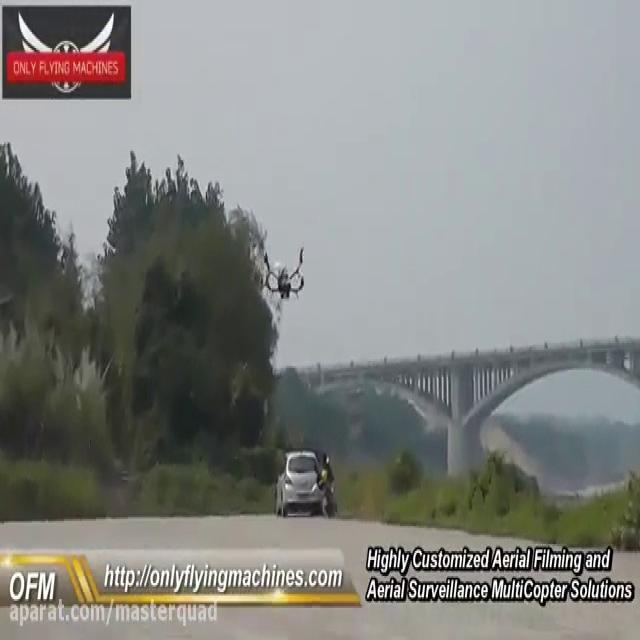drone: (260, 240, 308, 299)
